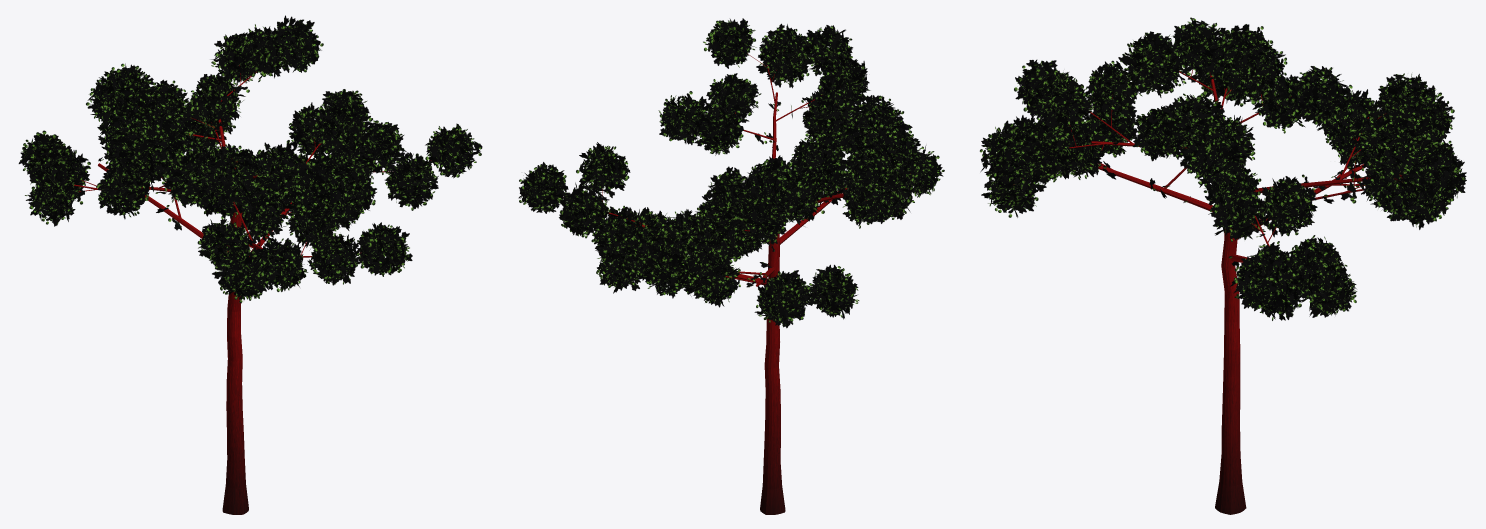
File: pine_open_v02.glb
The picture shows the model from 3 angles, left to right: view 1: azimuth 30°, elevation 25°; view 2: azimuth 150°, elevation 25°; view 3: azimuth 270°, elevation 25°; orthographic projection. The views are drawn at different scales.
Parts seen in each view (by area): view 1: pine_open_v02; view 2: pine_open_v02; view 3: pine_open_v02.
Boxes of the visible parts, <box> form: pine_open_v02: <box>18,15,482,514</box>; pine_open_v02: <box>518,18,944,514</box>; pine_open_v02: <box>979,17,1466,514</box>.
Size of the model in its own units: 16.52 by 21.12 by 20.25.
Materials: 2 (2 with a texture image).
